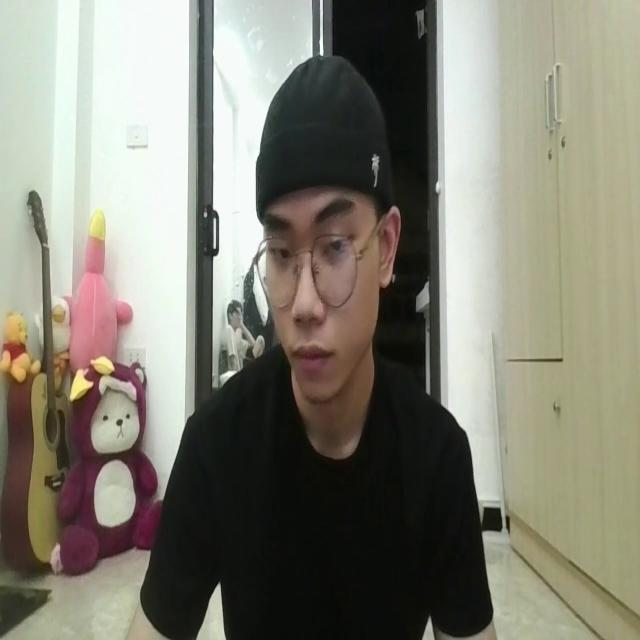student: (125, 50, 492, 640)
